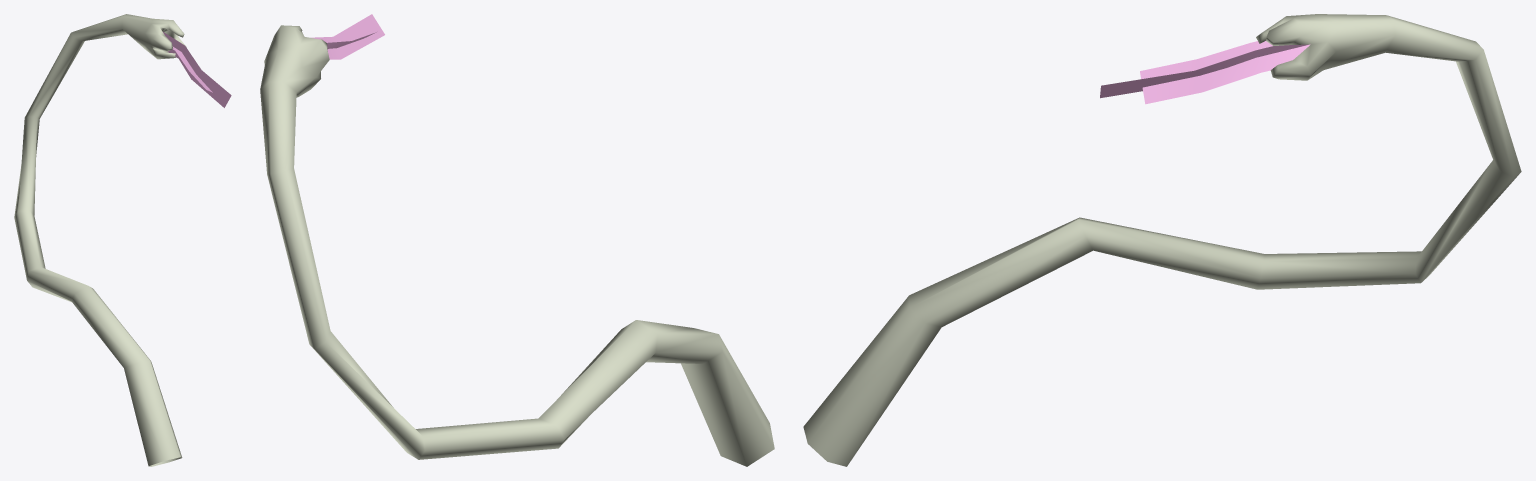
The picture shows the model from 3 angles, left to right: view 1: azimuth 30°, elevation 25°; view 2: azimuth 150°, elevation 25°; view 3: azimuth 270°, elevation 25°; orthographic projection. The views are drawn at different scales.
Visible parts, largest first — view 1: Object38; view 2: Object38; view 3: Object38.
Part boxes in pixels (bbox=[...]): Object38: bbox=[14, 14, 231, 466]; Object38: bbox=[260, 14, 774, 466]; Object38: bbox=[803, 14, 1521, 466].
Bounding box in the file's own units: 40383 × 72293 × 83879.
